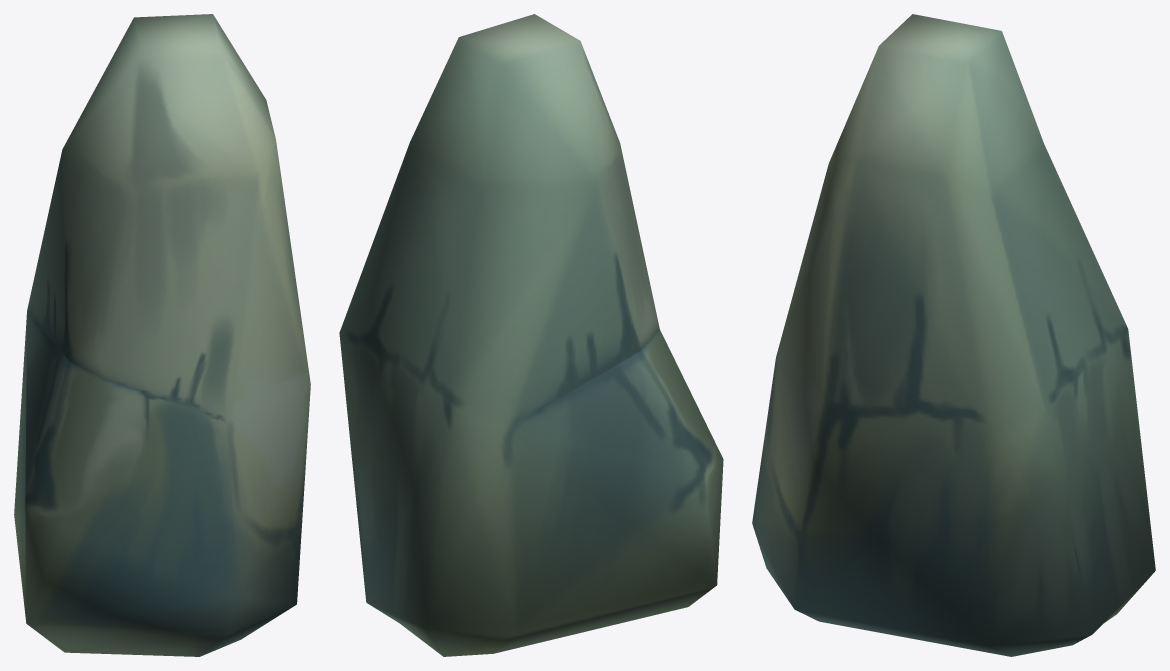
The model's file is roca3.fbx.
3 renders of one model, left to right at view 1: azimuth 30°, elevation 25°; view 2: azimuth 150°, elevation 25°; view 3: azimuth 270°, elevation 25°, orthographic. The views are drawn at different scales.
Visible parts, largest first — view 1: roca3; view 2: roca3; view 3: roca3.
Part boxes in pixels (bbox=[...]): roca3: bbox=[14, 14, 310, 656]; roca3: bbox=[339, 14, 723, 656]; roca3: bbox=[752, 14, 1155, 656].
Bounding box in the file's own units: 252 × 430 × 271.
